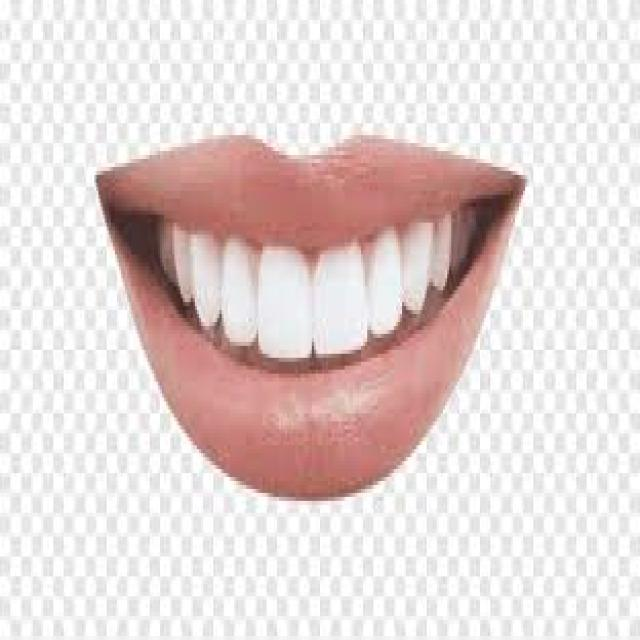tooth: (306, 238, 367, 366), (260, 250, 310, 354), (218, 242, 258, 346), (365, 246, 402, 334), (189, 219, 217, 314), (406, 223, 427, 326), (172, 223, 193, 290), (431, 211, 447, 290)
